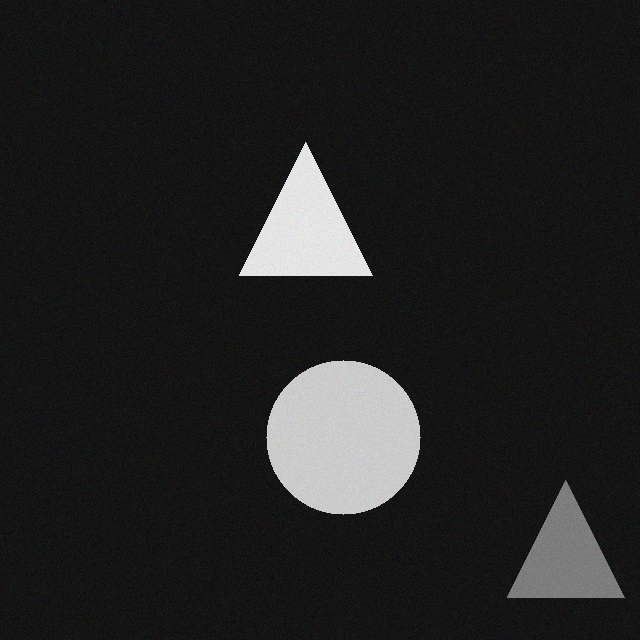circle: (269, 355, 423, 509)
triangle: (242, 137, 375, 270), (510, 475, 627, 592)
